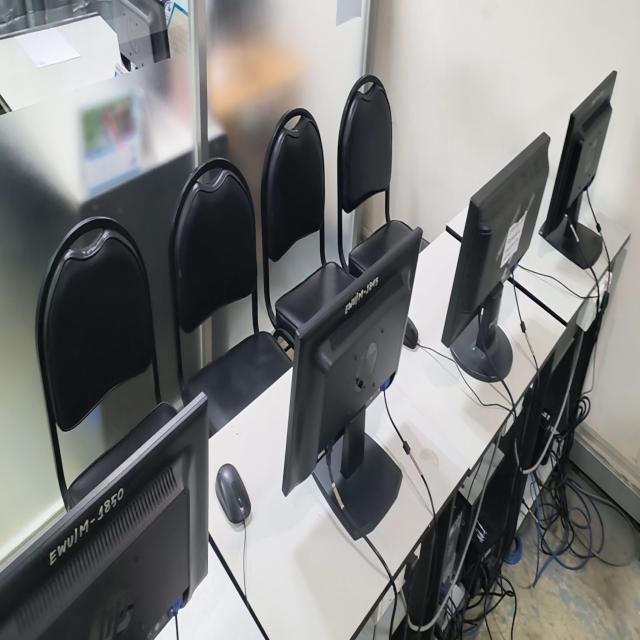Chair: (40, 213, 166, 433), (176, 162, 283, 401), (264, 98, 344, 312), (340, 65, 392, 271)
Monitor: (4, 415, 207, 640), (283, 229, 423, 527), (442, 135, 548, 380), (539, 62, 618, 271)
Mouse: (215, 462, 254, 528)
